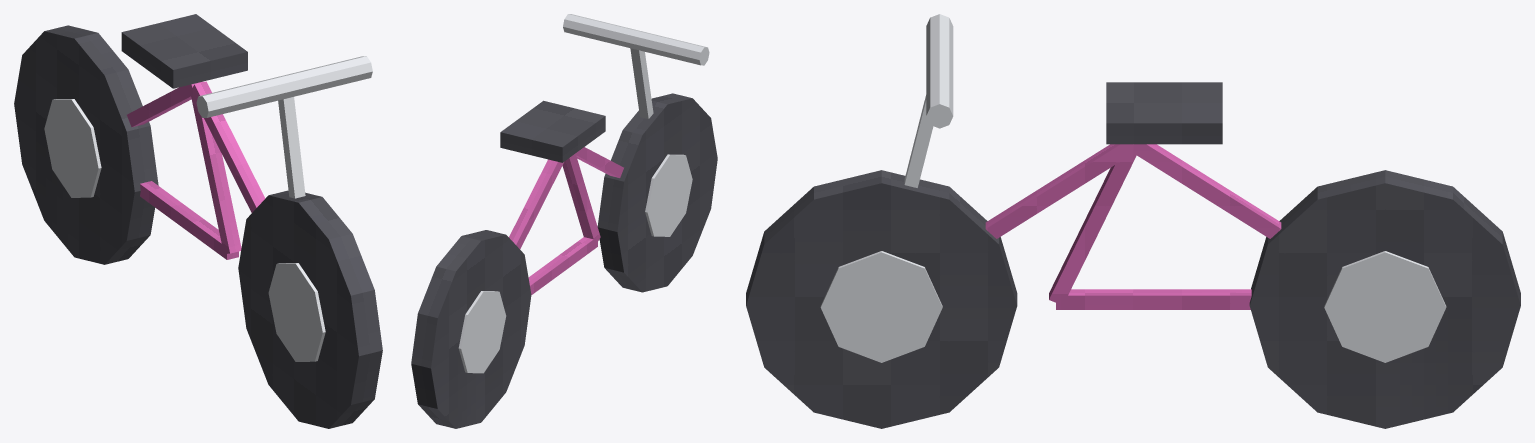
Rendered from retro-arcade-and-mall-1989-bmx-bike-d7d479f9__15552.glb.
3 views of the same model, side by side, from view 1: azimuth 30°, elevation 25°; view 2: azimuth 150°, elevation 25°; view 3: azimuth 270°, elevation 25° (orthographic). The views are drawn at different scales.
Visible parts, largest first — view 1: bmx-bike; view 2: bmx-bike; view 3: bmx-bike.
Boxes of the visible parts, x1,y1,x2,y2 form: bmx-bike: (14,14,382,428); bmx-bike: (411,14,717,428); bmx-bike: (746,14,1520,428).
Bounding box in the file's own units: 0.5501 × 1.04 × 2.
Materials: 3 (2 with a texture image).
